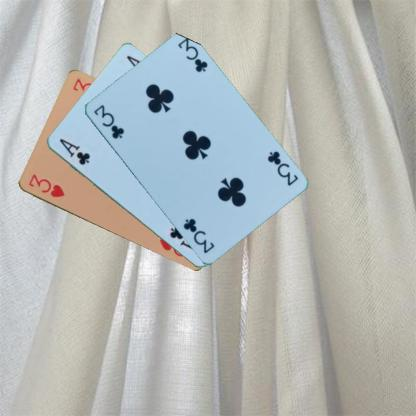3c: (264, 149, 299, 187), (91, 102, 125, 140)
3h: (25, 172, 66, 198)
Ac: (56, 136, 91, 166)
